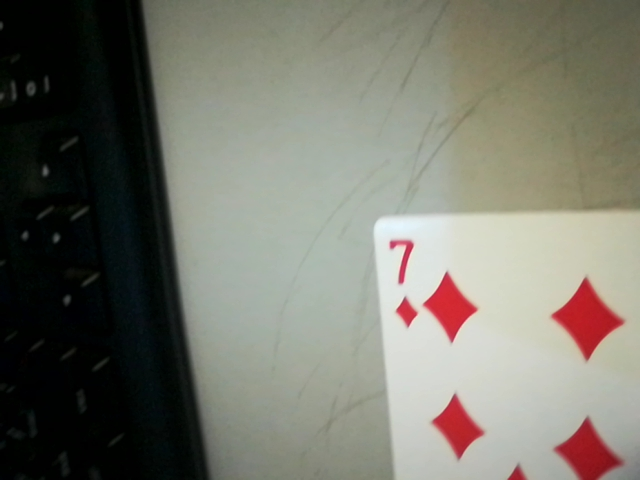fk 7: (376, 225, 427, 337)
